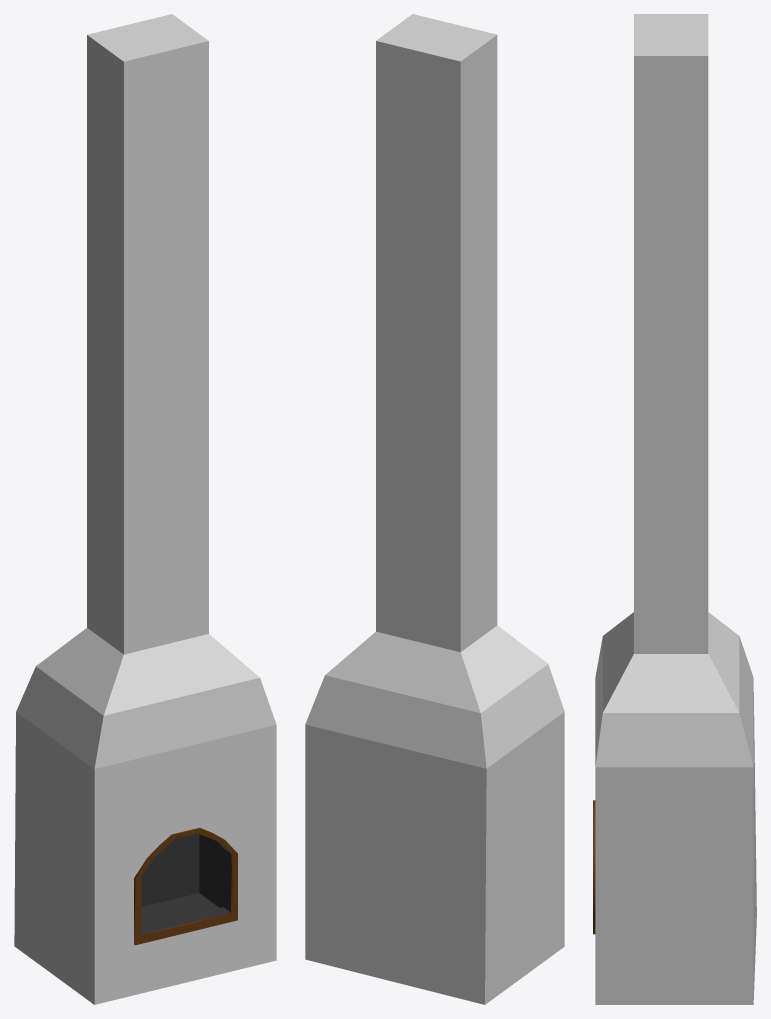
Rendered from furnance.fbx.
3 renders of one model, left to right at view 1: azimuth 30°, elevation 25°; view 2: azimuth 150°, elevation 25°; view 3: azimuth 270°, elevation 25°, orthographic.
Visible parts, largest first — view 1: Cube; view 2: Cube; view 3: Cube.
Part boxes in pixels (<box>): Cube: <box>14,14,276,1004</box>; Cube: <box>305,14,564,1004</box>; Cube: <box>593,14,756,1004</box>.
Size of the model in its own units: 200 by 963 by 155.
